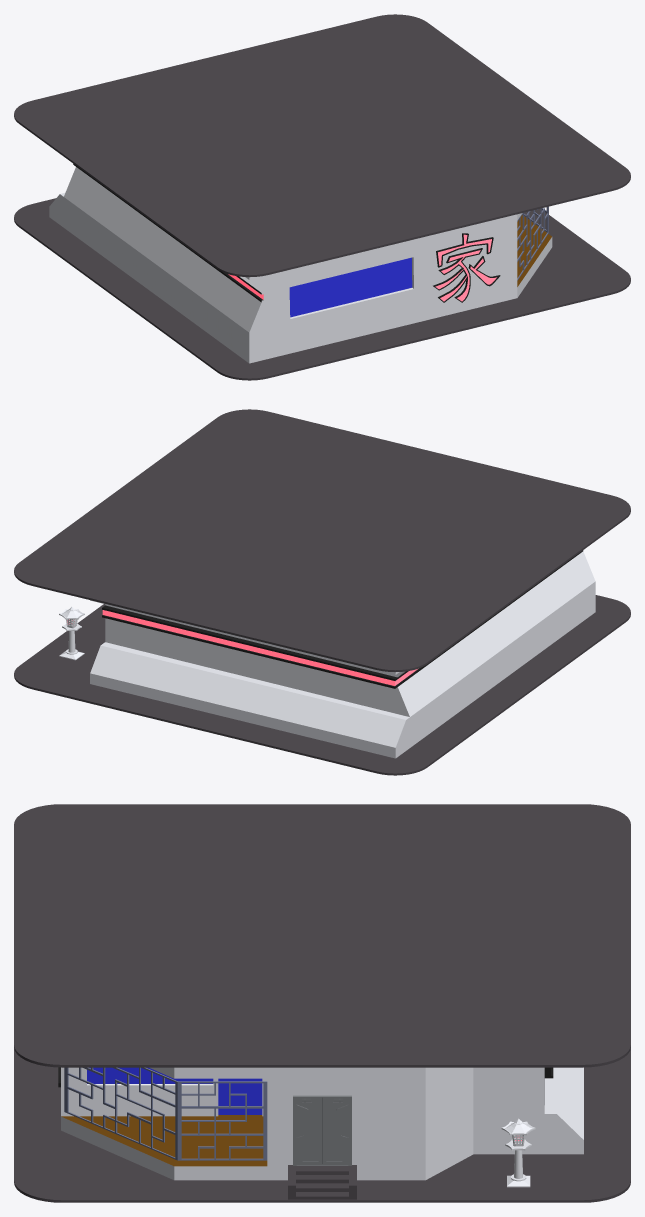
3 renders of one model, top to bottom at view 1: azimuth 30°, elevation 25°; view 2: azimuth 150°, elevation 25°; view 3: azimuth 270°, elevation 25°, orthographic. The views are drawn at different scales.
Visible parts, largest first — view 1: SM_B_i7_Base; view 2: SM_B_i7_Base; view 3: SM_B_i7_Base.
Part boxes in pixels (bbox=[...]): SM_B_i7_Base: bbox=[14, 14, 630, 380]; SM_B_i7_Base: bbox=[14, 409, 630, 775]; SM_B_i7_Base: bbox=[14, 804, 630, 1202].
Size of the model in its own units: 2100 by 518 by 2100.
